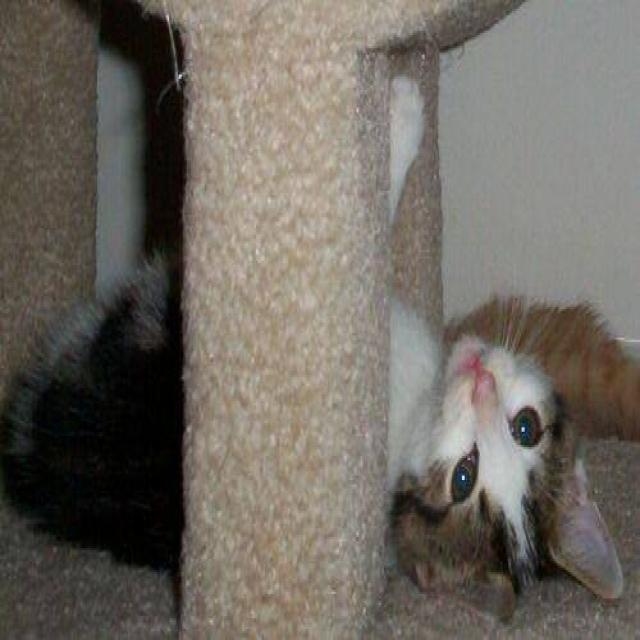cat: (6, 47, 631, 627)
